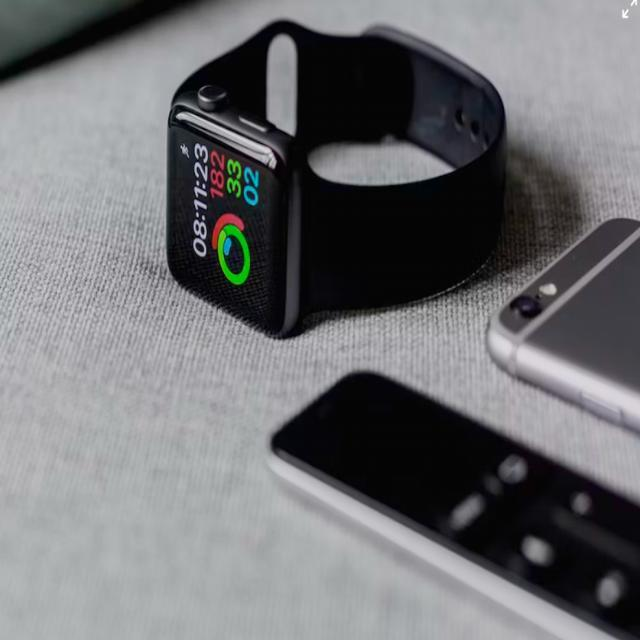Watch: (163, 15, 505, 326)
